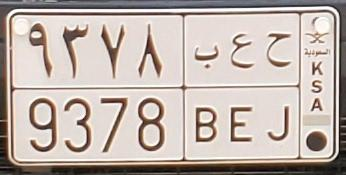3: (63, 23, 94, 153)
7: (99, 22, 129, 154)
8: (137, 23, 169, 151)
9: (27, 20, 58, 152)
B: (193, 44, 220, 145)
E: (230, 32, 254, 143)
J: (265, 31, 293, 141)
